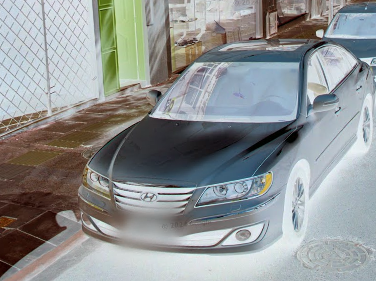car: (78, 39, 375, 258)
